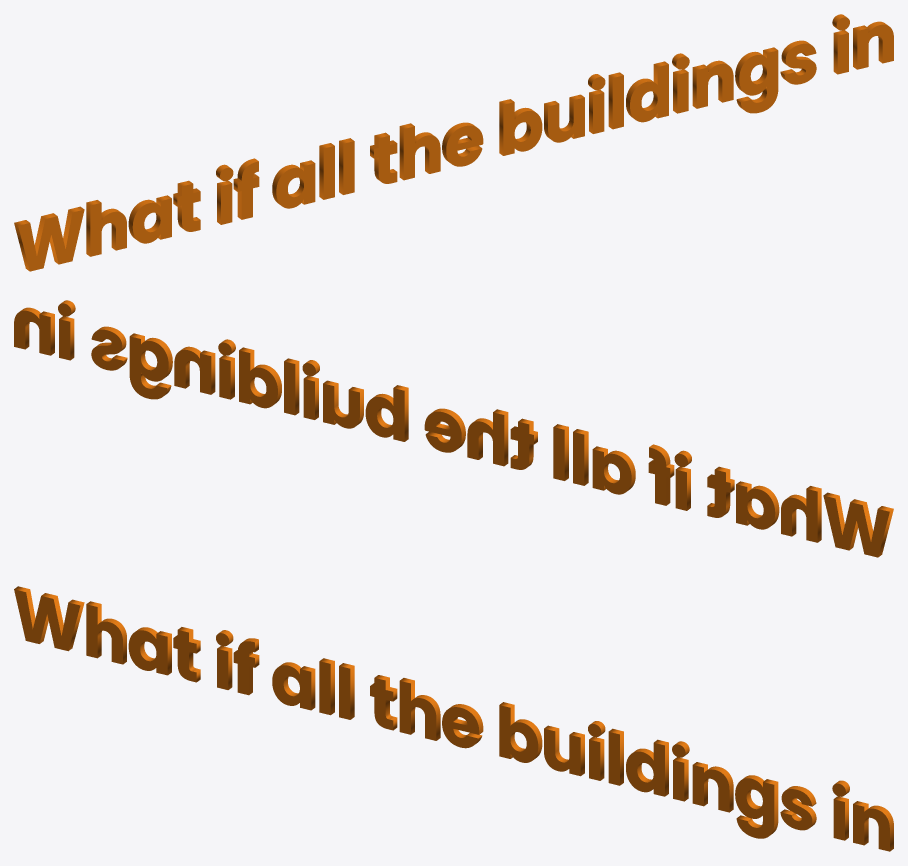
The model's file is Soru1.1.gltf.
3 views of the same model, one above another, from view 1: azimuth 30°, elevation 25°; view 2: azimuth 150°, elevation 25°; view 3: azimuth 330°, elevation 25° (orthographic).
Parts seen in each view (by area): view 1: Text.001; view 2: Text.001; view 3: Text.001.
Part boxes in pixels (box(x1,y1,x2,y2)): Text.001: box(14, 14, 893, 271); Text.001: box(14, 300, 893, 557); Text.001: box(14, 586, 893, 851).
Bounding box in the file's own units: 0.5337 × 0.0435 × 0.00435.
